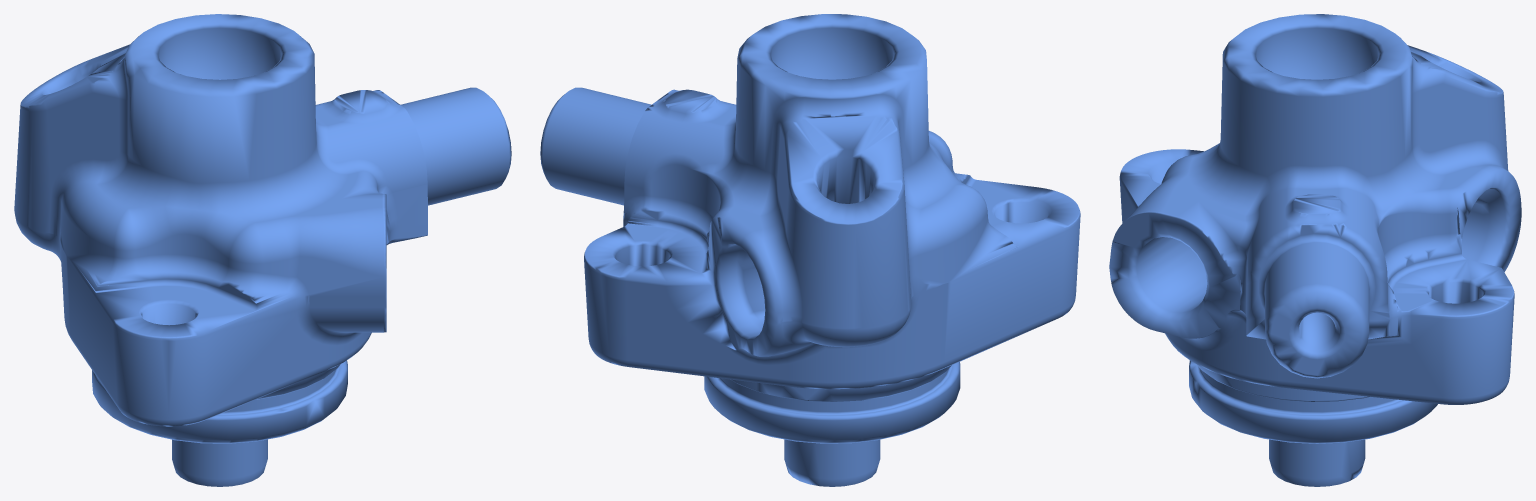
3 views of the same model, side by side, from view 1: azimuth 30°, elevation 25°; view 2: azimuth 150°, elevation 25°; view 3: azimuth 270°, elevation 25° (orthographic).
Visible parts, largest first — view 1: 2991572010-11-c_4941; view 2: 2991572010-11-c_4941; view 3: 2991572010-11-c_4941.
Boxes of the visible parts, box(x1,y1,x2,y2) form: 2991572010-11-c_4941: box(14, 14, 511, 486); 2991572010-11-c_4941: box(540, 14, 1080, 486); 2991572010-11-c_4941: box(1109, 14, 1521, 486).
Size of the model in its own units: 77.71 by 70.25 by 63.08.
